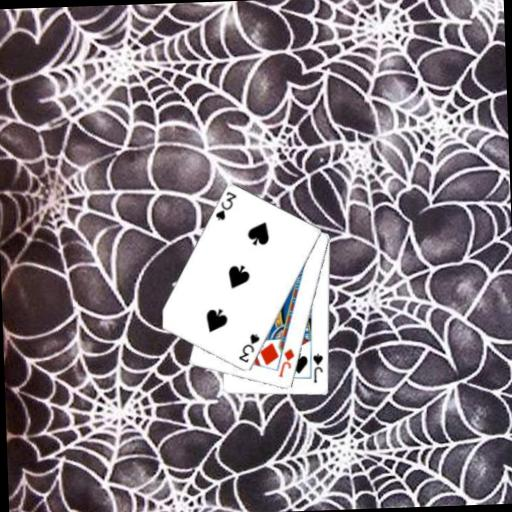3S: (234, 330, 262, 364), (211, 188, 239, 222)
JD: (274, 345, 297, 378)
JS: (309, 350, 325, 384)
